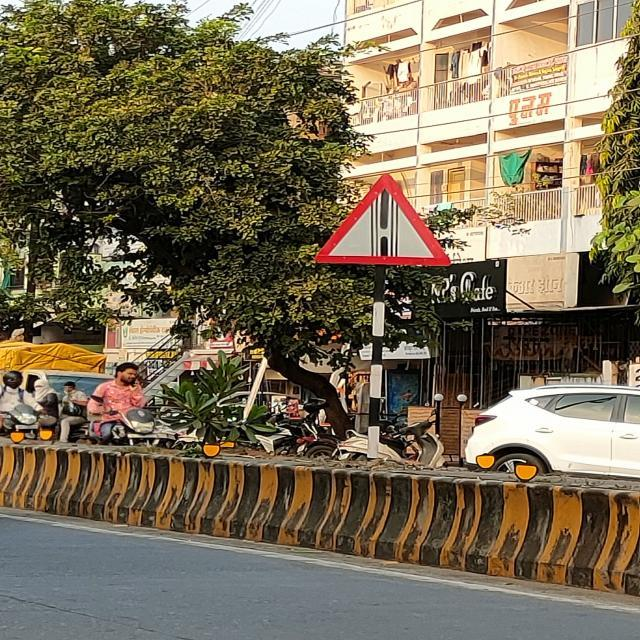gap in median: (313, 171, 453, 271)
